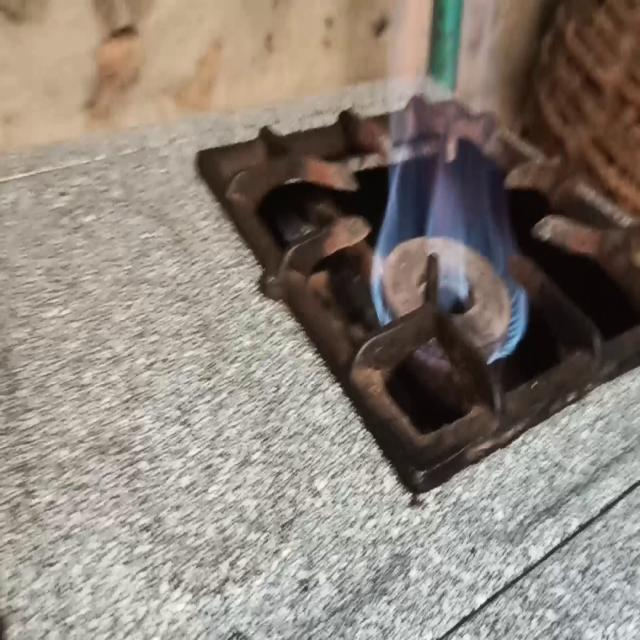Fire: (377, 97, 539, 366)
